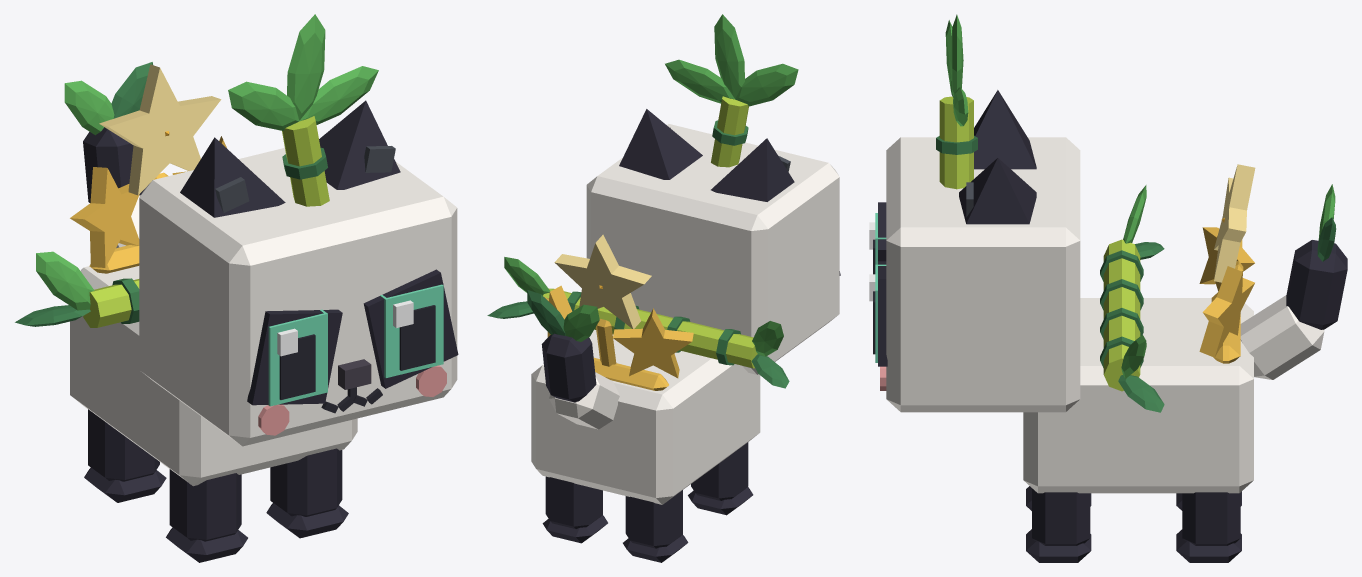
The model's file is CleanACat_Pet_Bamboo.fbx.
3 renders of one model, left to right at view 1: azimuth 30°, elevation 25°; view 2: azimuth 150°, elevation 25°; view 3: azimuth 270°, elevation 25°, orthographic. The views are drawn at different scales.
Visible parts, largest first — view 1: CleanACat_Pet_Bamboo_Head, CleanACat_Pet_Bamboo_Body, CleanACat_Pet_Bamboo_Prop, CleanACat_Pet_Bamboo_Star3, CleanACat_Pet_Bamboo_LegF2, CleanACat_Pet_Bamboo_LegF1, CleanACat_Pet_Bamboo_Prop2, CleanACat_Pet_Bamboo_Eye1, CleanACat_Pet_Bamboo_Eye2, CleanACat_Pet_Bamboo_Star2, CleanACat_Pet_Bamboo_EarL, CleanACat_Pet_Bamboo_LegB2 (+3 smaller); view 2: CleanACat_Pet_Bamboo_Head, CleanACat_Pet_Bamboo_Body, CleanACat_Pet_Bamboo_Prop, CleanACat_Pet_Bamboo_Prop2, CleanACat_Pet_Bamboo_Tail, CleanACat_Pet_Bamboo_Star3, CleanACat_Pet_Bamboo_Star2, CleanACat_Pet_Bamboo_LegB2, CleanACat_Pet_Bamboo_EarL, CleanACat_Pet_Bamboo_LegB1, CleanACat_Pet_Bamboo_EarR, CleanACat_Pet_Bamboo_LegF2 (+1 smaller); view 3: CleanACat_Pet_Bamboo_Head, CleanACat_Pet_Bamboo_Body, CleanACat_Pet_Bamboo_Tail, CleanACat_Pet_Bamboo_Prop2, CleanACat_Pet_Bamboo_Prop, CleanACat_Pet_Bamboo_LegF1, CleanACat_Pet_Bamboo_LegB1, CleanACat_Pet_Bamboo_Star2, CleanACat_Pet_Bamboo_EarL, CleanACat_Pet_Bamboo_EarR, CleanACat_Pet_Bamboo_Star3, CleanACat_Pet_Bamboo_Tail_Leaf (+1 smaller).
Boxes of the visible parts, <box> form: CleanACat_Pet_Bamboo_Head: <box>139,148,458,446</box>; CleanACat_Pet_Bamboo_Body: <box>70,266,357,486</box>; CleanACat_Pet_Bamboo_Prop: <box>228,14,378,206</box>; CleanACat_Pet_Bamboo_Star3: <box>99,64,221,195</box>; CleanACat_Pet_Bamboo_LegF2: <box>166,469,247,562</box>; CleanACat_Pet_Bamboo_LegF1: <box>266,448,348,538</box>; CleanACat_Pet_Bamboo_Prop2: <box>15,251,139,327</box>; CleanACat_Pet_Bamboo_Eye1: <box>380,284,443,377</box>; CleanACat_Pet_Bamboo_Eye2: <box>268,309,327,406</box>; CleanACat_Pet_Bamboo_Star2: <box>70,136,226,273</box>; CleanACat_Pet_Bamboo_EarL: <box>319,100,400,189</box>; CleanACat_Pet_Bamboo_LegB2: <box>84,409,166,502</box>; CleanACat_Pet_Bamboo_Head: <box>586,124,840,374</box>; CleanACat_Pet_Bamboo_Body: <box>531,329,760,504</box>; CleanACat_Pet_Bamboo_Prop: <box>665,14,798,167</box>; CleanACat_Pet_Bamboo_Prop2: <box>487,257,789,388</box>; CleanACat_Pet_Bamboo_Tail: <box>541,333,619,429</box>; CleanACat_Pet_Bamboo_Star3: <box>554,234,651,366</box>; CleanACat_Pet_Bamboo_Star2: <box>543,285,693,390</box>; CleanACat_Pet_Bamboo_LegB2: <box>623,490,688,562</box>; CleanACat_Pet_Bamboo_EarL: <box>619,109,702,179</box>; CleanACat_Pet_Bamboo_LegB1: <box>542,476,607,543</box>; CleanACat_Pet_Bamboo_EarR: <box>711,138,794,201</box>; CleanACat_Pet_Bamboo_LegF2: <box>688,442,753,515</box>; CleanACat_Pet_Bamboo_Head: <box>878,137,1080,412</box>; CleanACat_Pet_Bamboo_Body: <box>1023,298,1253,493</box>; CleanACat_Pet_Bamboo_Tail: <box>1240,240,1347,379</box>; CleanACat_Pet_Bamboo_Prop2: <box>1100,185,1164,412</box>; CleanACat_Pet_Bamboo_Prop: <box>936,14,977,189</box>; CleanACat_Pet_Bamboo_LegF1: <box>1026,488,1091,562</box>; CleanACat_Pet_Bamboo_LegB1: <box>1176,492,1241,562</box>; CleanACat_Pet_Bamboo_Star2: <box>1199,227,1254,363</box>; CleanACat_Pet_Bamboo_EarL: <box>959,158,1036,224</box>; CleanACat_Pet_Bamboo_EarR: <box>974,90,1036,169</box>; CleanACat_Pet_Bamboo_Star3: <box>1214,164,1255,282</box>; CleanACat_Pet_Bamboo_Tail_Leaf: <box>1317,184,1336,261</box>.
Size of the model in its own units: 1.64 by 2.36 by 1.97.
1 material, 1 textured.
